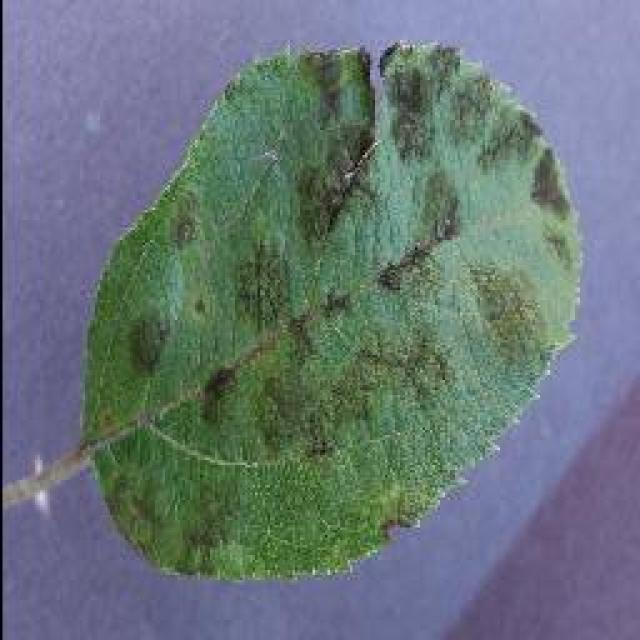apple scab disease: (75, 35, 585, 583)
